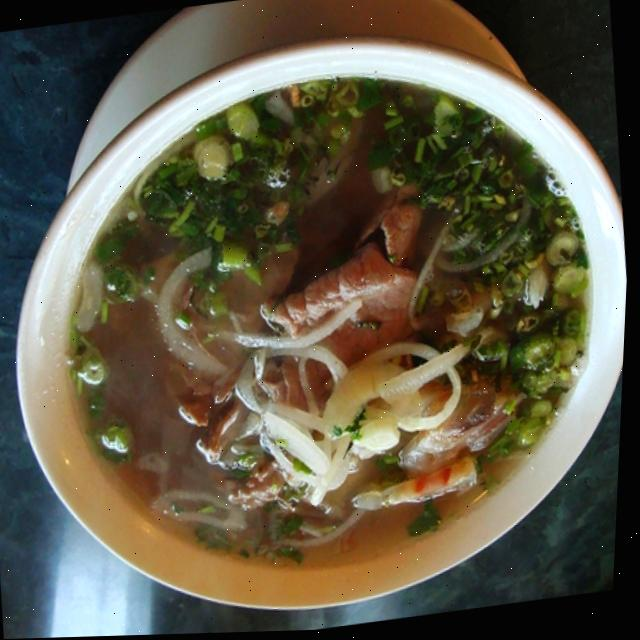面条主食: (6, 7, 635, 622)
